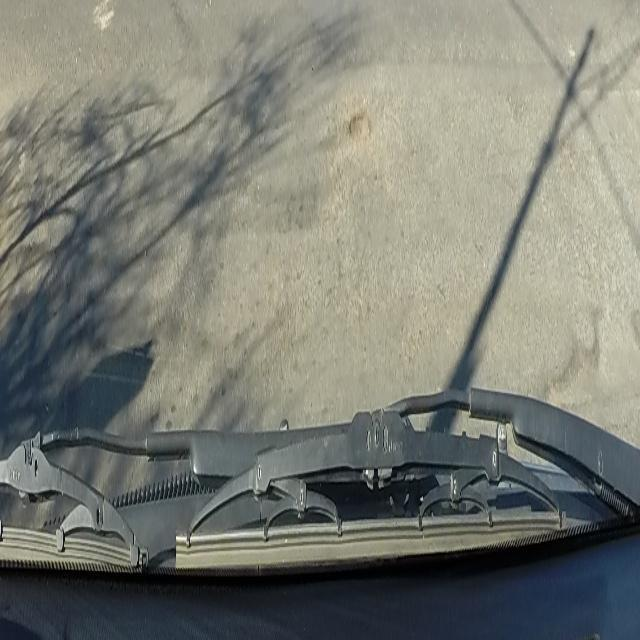pothole: (348, 106, 372, 146)
